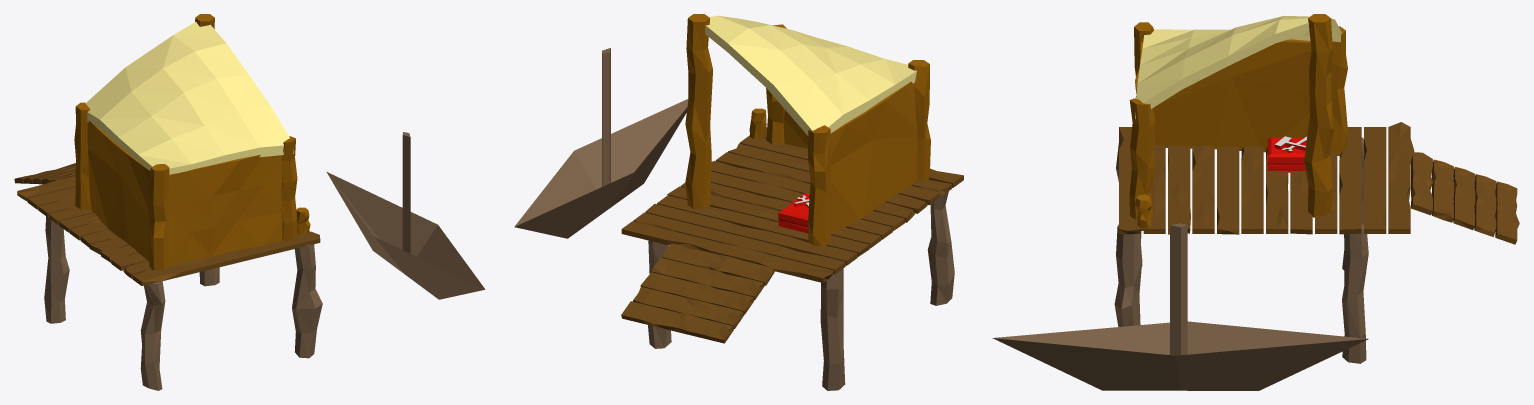
Rendered from Dock.fbx.
The picture shows the model from 3 angles, left to right: view 1: azimuth 30°, elevation 25°; view 2: azimuth 150°, elevation 25°; view 3: azimuth 270°, elevation 25°; orthographic projection. The views are drawn at different scales.
Parts seen in each view (by area): view 1: Dock, Boat; view 2: Dock, Boat, InstrumentsCasae; view 3: Dock, Boat, InstrumentsCasae.
Boxes of the visible parts, x1,y1,x2,y2 form: Dock: (14,14,322,390); Boat: (326,132,485,299); Dock: (621,14,963,390); Boat: (514,48,688,238); InstrumentsCasae: (778,193,809,233); Dock: (1114,14,1519,363); Boat: (992,223,1368,390); InstrumentsCasae: (1267,136,1306,172).
Bounding box in the file's own units: 3806 × 3165 × 4569.
